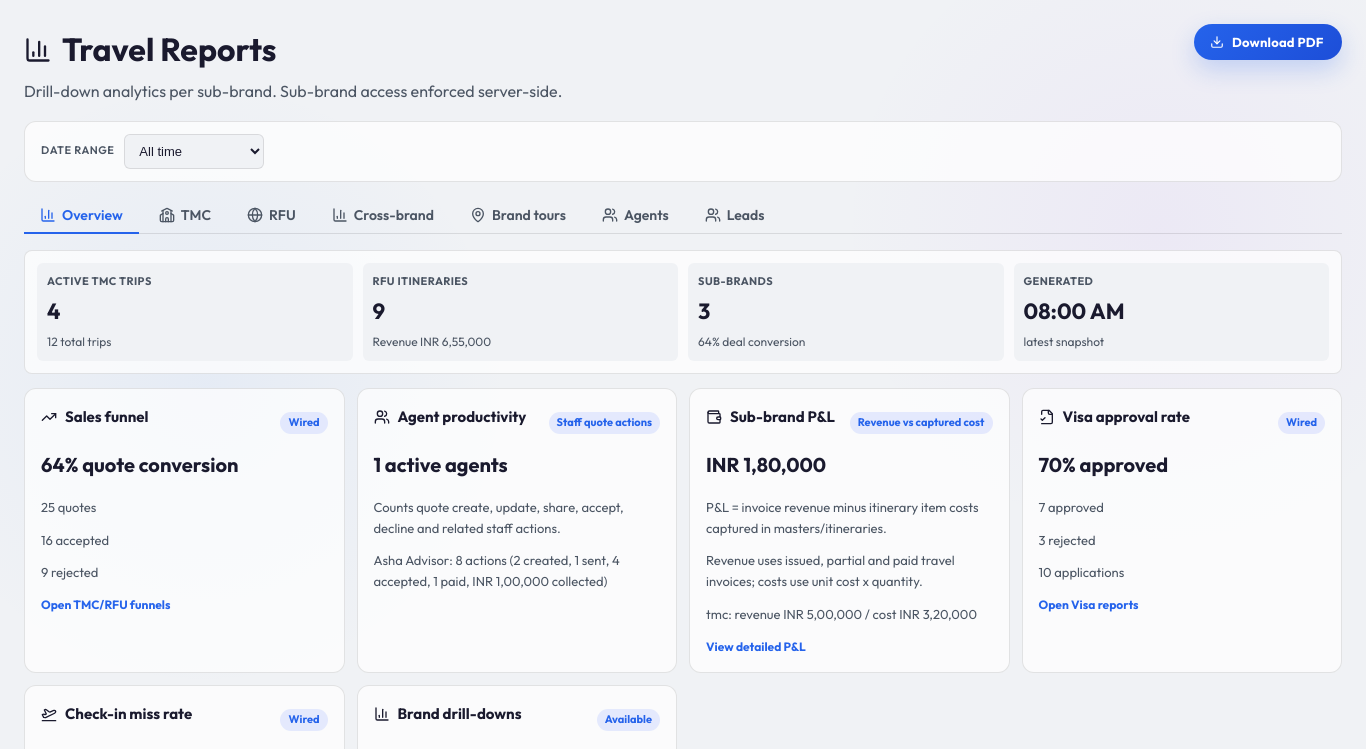
it: <TravelReports /> — TMC tab content › renders TMC empty-state copy when no revenue / no schools
This screenshot has width=1366, height=749.
Expected: the heading "Sales funnel" is shown, [41, 405, 148, 429]
Click the tab "TMC" at [185, 216], box [143, 198, 227, 234]
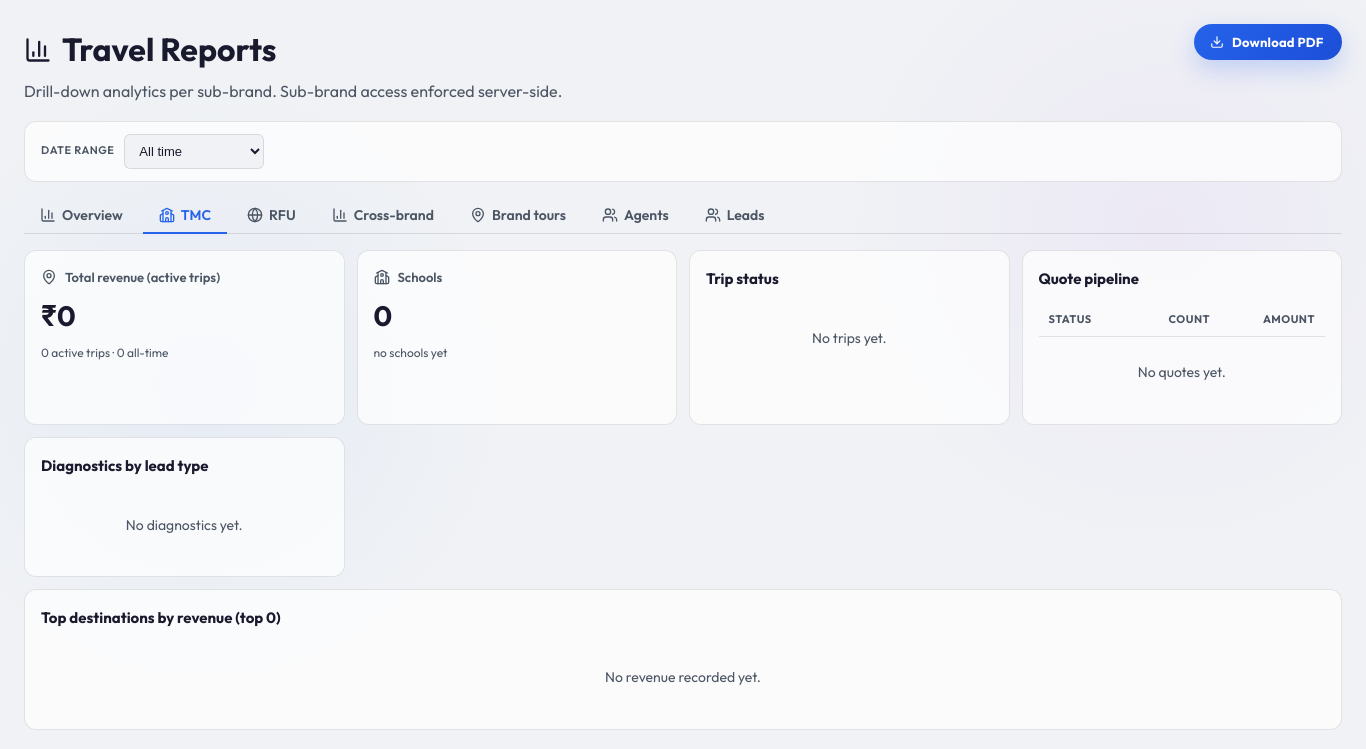
Now the text "No revenue recorded yet." is shown, box [605, 668, 761, 686]
Now the text "no schools yet" is shown, box [374, 345, 447, 360]
Now the text "No trips yet." is shown, box [812, 329, 887, 347]
